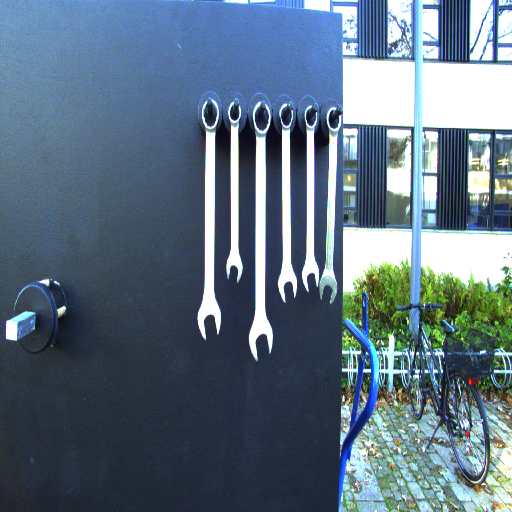bottom: (245, 324, 277, 363), (195, 305, 224, 341), (274, 274, 300, 306), (319, 277, 341, 308), (298, 266, 320, 291), (225, 257, 244, 283)
top: (250, 99, 275, 135), (197, 97, 221, 133), (325, 104, 345, 135), (275, 101, 296, 129), (302, 103, 321, 132), (225, 100, 244, 126)
